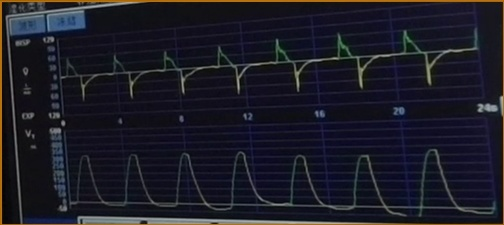Accumulation Flow: (61, 28, 476, 104)
Volume: (71, 143, 494, 218)
